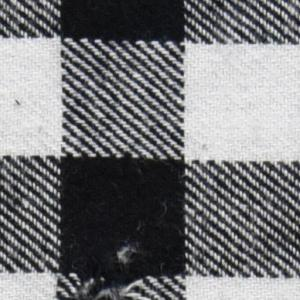Damage: (71, 269, 153, 300)
